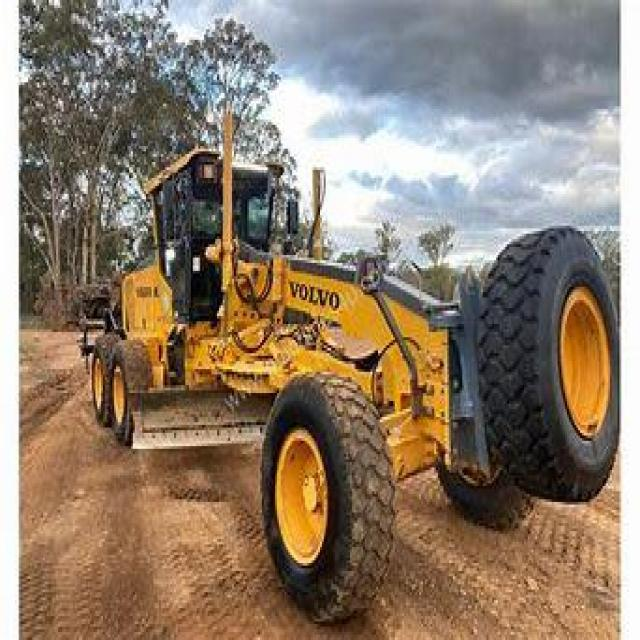Grader: (77, 127, 621, 614)
